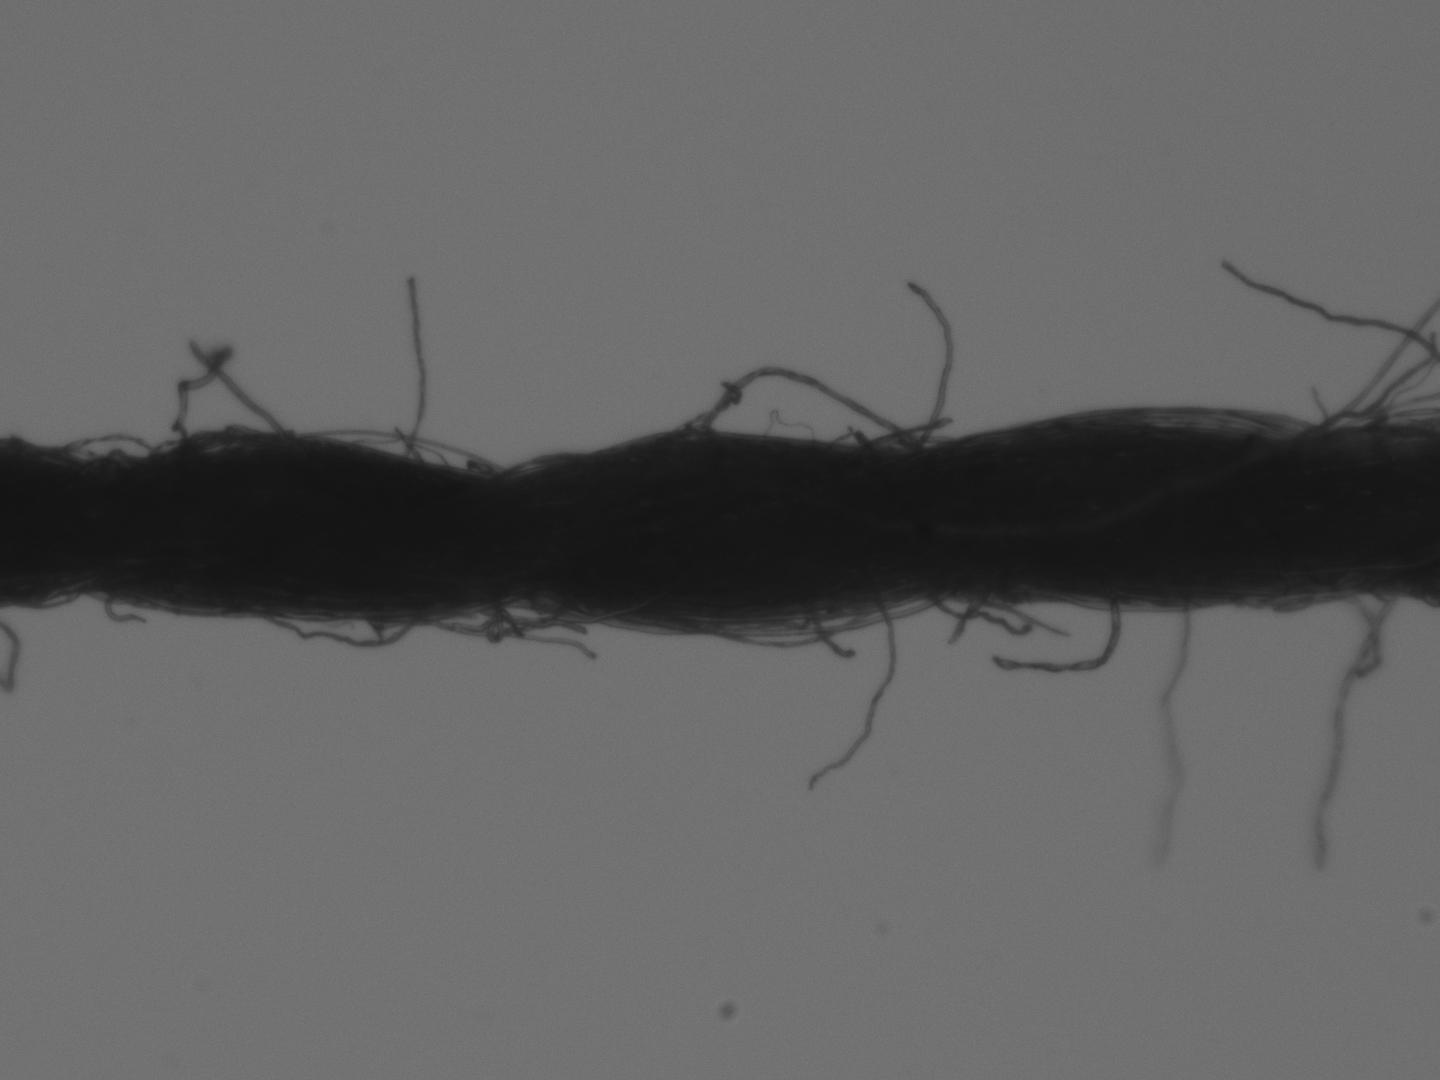loop_fiber: (695, 362, 914, 473), (282, 424, 508, 491), (254, 600, 422, 653), (482, 574, 587, 651), (702, 610, 864, 649), (41, 430, 158, 469)
protruding_fiber: (795, 580, 906, 798), (899, 272, 957, 467), (991, 602, 1123, 674)
